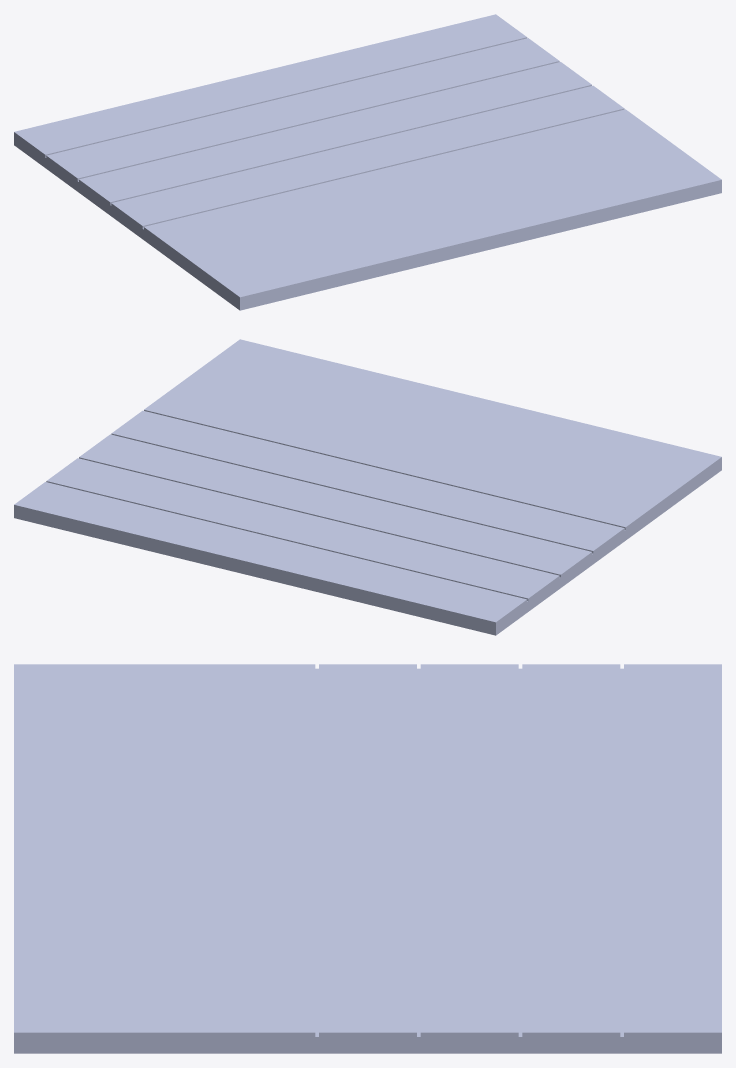
The model's file is Drawers for 5 Drawer base cabinet - 40in..fbx.
3 renders of one model, top to bottom at view 1: azimuth 30°, elevation 25°; view 2: azimuth 150°, elevation 25°; view 3: azimuth 270°, elevation 25°, orthographic. The views are drawn at different scales.
Parts seen in each view (by area): view 1: Body_1; view 2: Body_1; view 3: Body_1.
Part boxes in pixels (x1,y1,x2,y2): Body_1: (14, 14, 721, 310); Body_1: (14, 339, 721, 635); Body_1: (14, 664, 721, 1053).
Bounding box in the file's own units: 0.9601 × 0.78 × 0.0254.
